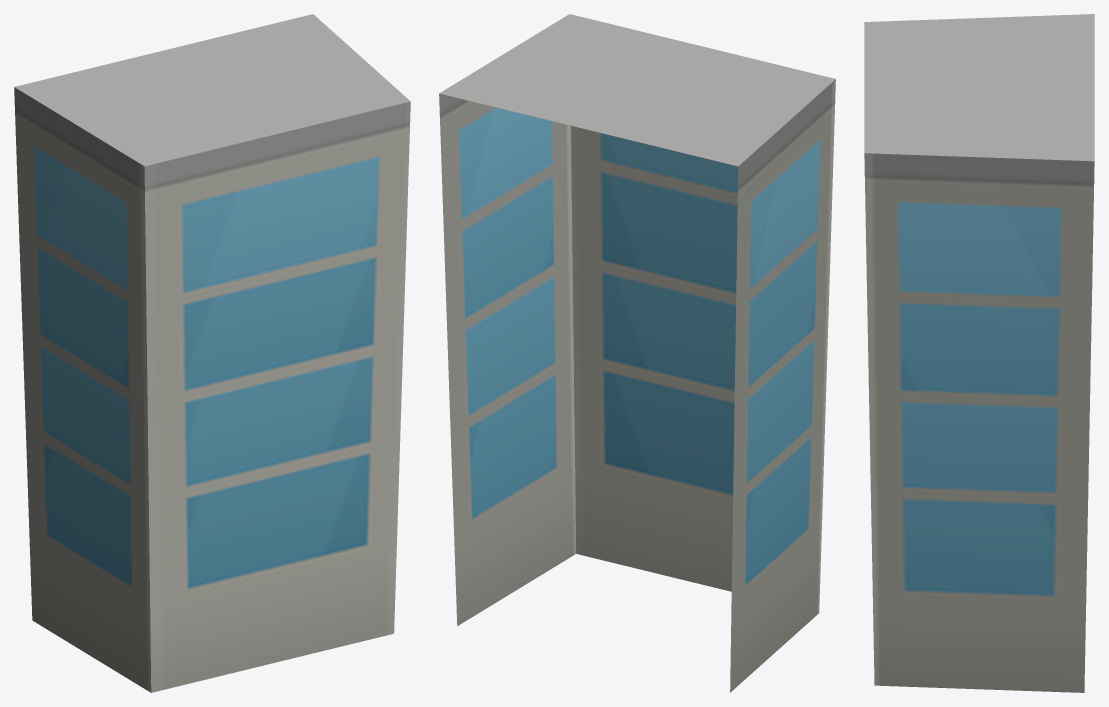
The model's file is Common_Building_07.fbx.
3 renders of one model, left to right at view 1: azimuth 30°, elevation 25°; view 2: azimuth 150°, elevation 25°; view 3: azimuth 270°, elevation 25°, orthographic.
Parts seen in each view (by area): view 1: Common_Building_07; view 2: Common_Building_07; view 3: Common_Building_07.
Boxes of the visible parts, left/top/right/bottom form: Common_Building_07: left=14, top=14, right=410, bottom=692; Common_Building_07: left=439, top=14, right=835, bottom=692; Common_Building_07: left=864, top=14, right=1094, bottom=692.
Bounding box in the file's own units: 2935 × 5000 × 1938.
